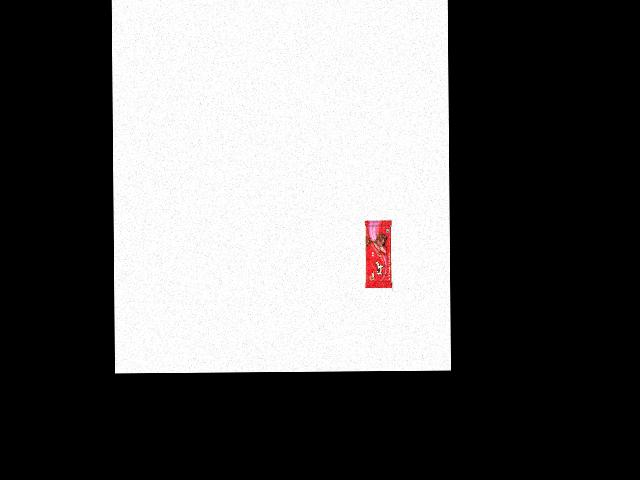chocolate: (365, 219, 397, 293)
